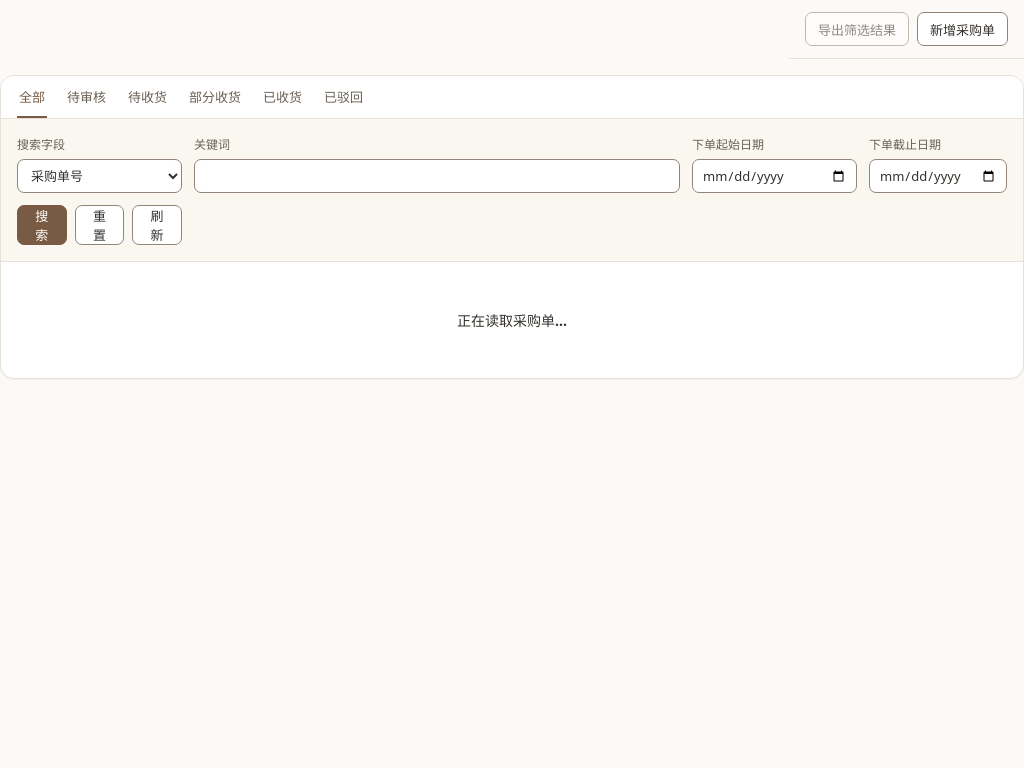
Test case: procurement order page › rejects an inverted order date range before navigation
Type "2026-08-02" into the date field labelled "下单起始日期" at x=775, y=176, box [692,159,857,193]
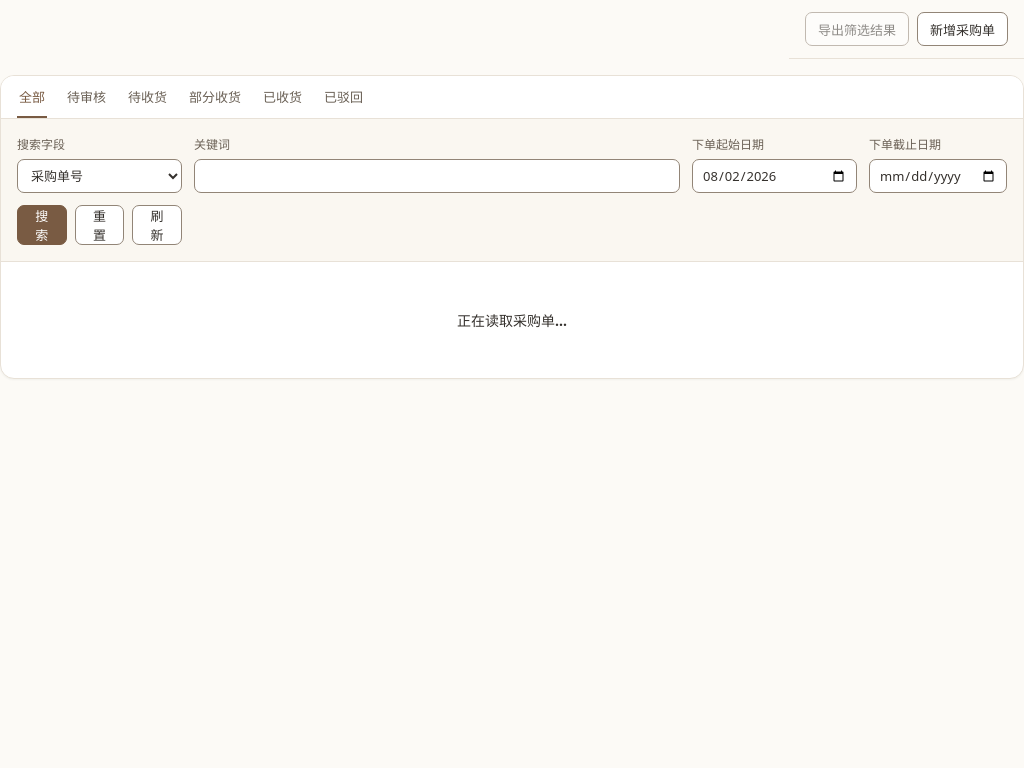
Type "2026-08-01" into the date field labelled "下单截止日期" at x=938, y=176, box [869,159,1007,193]
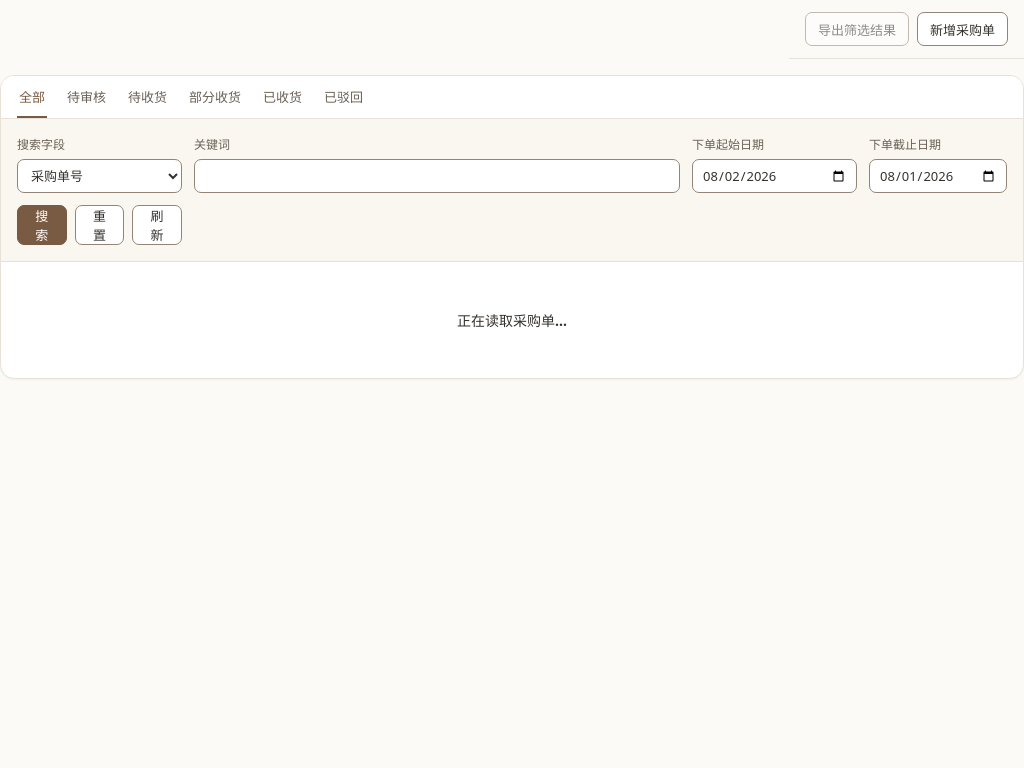
Click the button "搜索" at x=42, y=225, box [17,205,67,245]
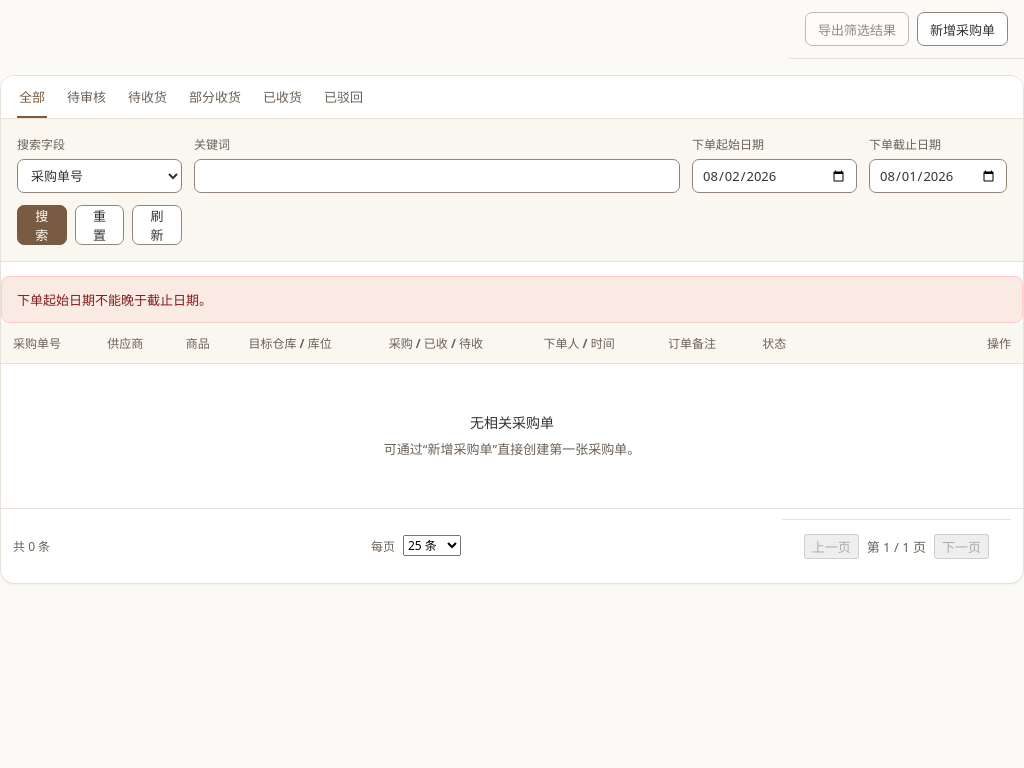
expect the message "下单起始日期不能晚于截止日期。" is shown: met, box [1,276,1023,323]
